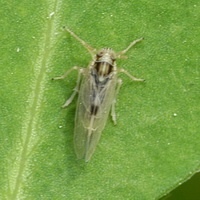insect: (52, 27, 143, 161)
